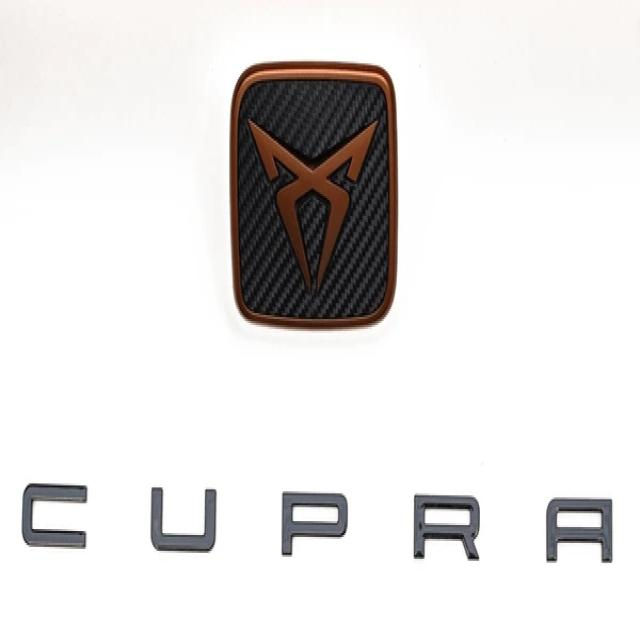cupra: (246, 109, 384, 298)
